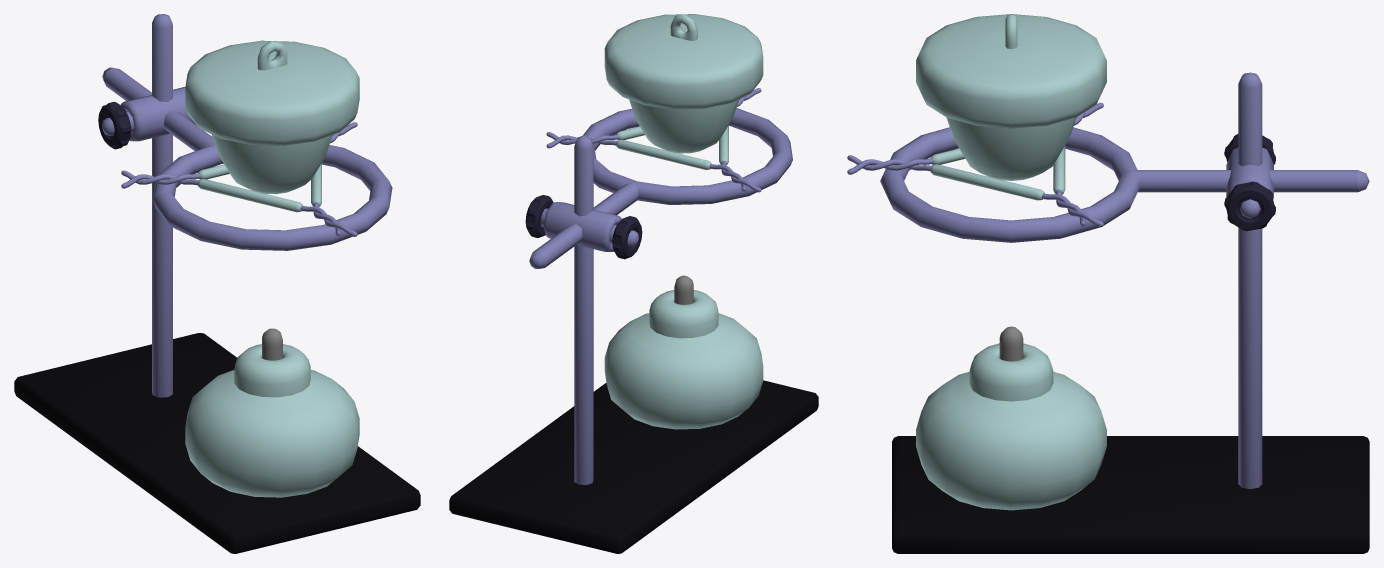
Rendered from LastLuna_Model_Station_Smelter.fbx.
3 renders of one model, left to right at view 1: azimuth 30°, elevation 25°; view 2: azimuth 150°, elevation 25°; view 3: azimuth 270°, elevation 25°, orthographic. The views are drawn at different scales.
Parts seen in each view (by area): view 1: Stand_Base001, Alcohol_Lamp001, Crucible_Lid001, Stand_Arm_Ring001, Stand_Pole001, Crucible001, Stand_Fixture001, Clay_Triangle001, Clay_Triangle_Metal001, Stand_Fixture_Handle001, Alcohol_Lamp_Wick001; view 2: Stand_Base001, Alcohol_Lamp001, Crucible_Lid001, Stand_Arm_Ring001, Stand_Pole001, Crucible001, Stand_Fixture001, Stand_Fixture_Handle001, Clay_Triangle001, Clay_Triangle_Metal001, Alcohol_Lamp_Wick001; view 3: Stand_Base001, Alcohol_Lamp001, Crucible_Lid001, Stand_Arm_Ring001, Stand_Pole001, Crucible001, Clay_Triangle001, Stand_Fixture_Handle001, Clay_Triangle_Metal001, Stand_Fixture001, Alcohol_Lamp_Wick001.
Boxes of the visible parts, left/top/right/bottom form: Stand_Base001: left=14, top=333, right=420, bottom=553; Alcohol_Lamp001: left=185, top=344, right=359, bottom=497; Crucible_Lid001: left=185, top=40, right=359, bottom=145; Stand_Arm_Ring001: left=102, top=67, right=392, bottom=250; Stand_Pole001: left=152, top=14, right=172, bottom=397; Crucible001: left=211, top=134, right=332, bottom=194; Stand_Fixture001: left=102, top=87, right=195, bottom=141; Clay_Triangle001: left=197, top=163, right=321, bottom=212; Clay_Triangle_Metal001: left=121, top=122, right=357, bottom=236; Stand_Fixture_Handle001: left=98, top=101, right=131, bottom=149; Alcohol_Lamp_Wick001: left=262, top=328, right=282, bottom=360; Stand_Base001: left=449, top=380, right=818, bottom=553; Alcohol_Lamp001: left=604, top=290, right=763, bottom=429; Crucible_Lid001: left=604, top=14, right=763, bottom=109; Stand_Arm_Ring001: left=529, top=108, right=792, bottom=268; Stand_Pole001: left=574, top=136, right=593, bottom=484; Crucible001: left=629, top=99, right=739, bottom=153; Stand_Fixture001: left=540, top=202, right=638, bottom=251; Stand_Fixture_Handle001: left=525, top=195, right=642, bottom=259; Clay_Triangle001: left=616, top=125, right=728, bottom=169; Clay_Triangle_Metal001: left=546, top=88, right=761, bottom=192; Alcohol_Lamp_Wick001: left=674, top=275, right=693, bottom=304; Stand_Base001: left=892, top=436, right=1369, bottom=553; Alcohol_Lamp001: left=916, top=343, right=1106, bottom=510; Crucible_Lid001: left=916, top=14, right=1106, bottom=128; Stand_Arm_Ring001: left=880, top=127, right=1369, bottom=242; Stand_Pole001: left=1238, top=72, right=1262, bottom=489; Crucible001: left=946, top=117, right=1076, bottom=180; Clay_Triangle001: left=930, top=146, right=1065, bottom=200; Stand_Fixture_Handle001: left=1224, top=134, right=1275, bottom=231; Clay_Triangle_Metal001: left=847, top=102, right=1103, bottom=227; Stand_Fixture001: left=1226, top=147, right=1273, bottom=218; Alcohol_Lamp_Wick001: left=999, top=326, right=1023, bottom=361.
Bounding box in the file's own units: 124 × 227 × 219.
